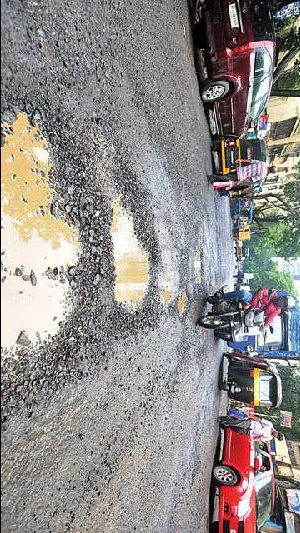pothole: (3, 87, 100, 406), (112, 181, 160, 332), (160, 269, 180, 308), (174, 287, 193, 321), (190, 243, 205, 286)
